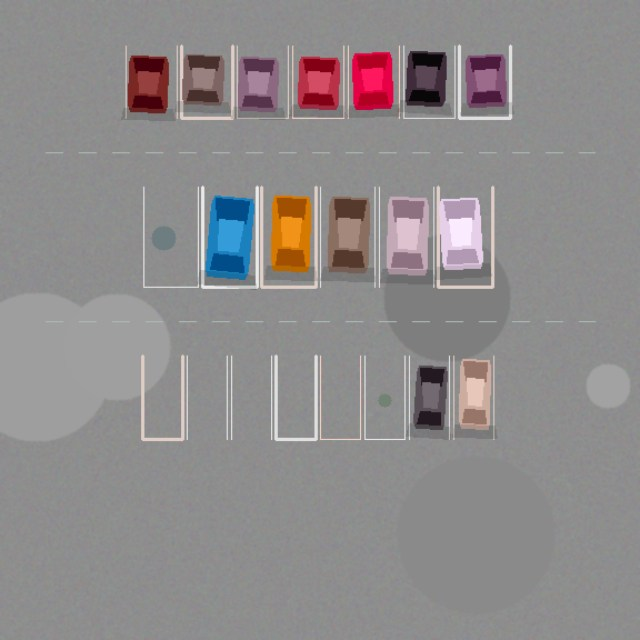space-empty: (143, 187, 198, 287), (142, 356, 182, 439), (187, 356, 227, 439), (231, 356, 271, 439), (276, 356, 316, 439), (320, 356, 360, 439), (364, 356, 404, 439)
space-occupied: (202, 187, 257, 287), (261, 187, 316, 287), (320, 187, 374, 287), (379, 187, 433, 287), (438, 187, 492, 287), (126, 46, 177, 118), (181, 46, 232, 118), (237, 46, 288, 118), (292, 46, 343, 118), (348, 46, 399, 118), (403, 46, 454, 118), (459, 46, 510, 118), (409, 356, 449, 439), (453, 356, 493, 439)
